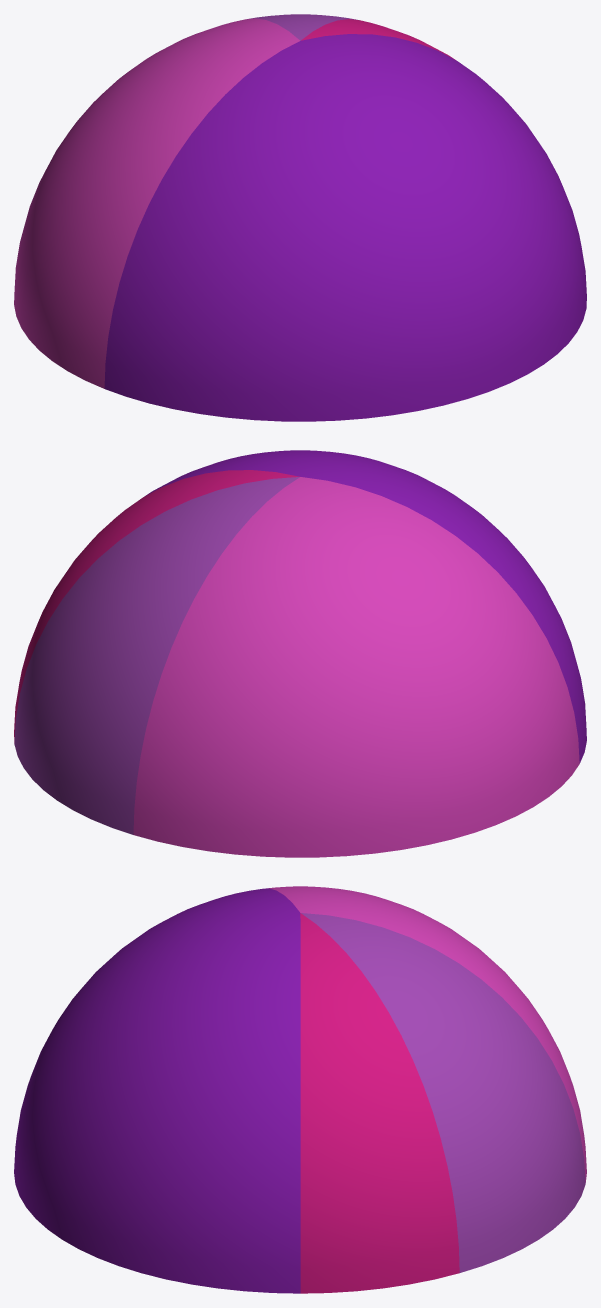
Rendered from piechart.dae.
3 renders of one model, top to bottom at view 1: azimuth 30°, elevation 25°; view 2: azimuth 150°, elevation 25°; view 3: azimuth 270°, elevation 25°, orthographic.
Visible parts, largest first — view 1: Sphere; view 2: Sphere; view 3: Sphere.
Part boxes in pixels (x1,y1,x2,y2): Sphere: (14, 14, 586, 421); Sphere: (14, 450, 586, 857); Sphere: (14, 886, 586, 1293).
Bounding box in the file's own units: 22 × 22 × 11.
